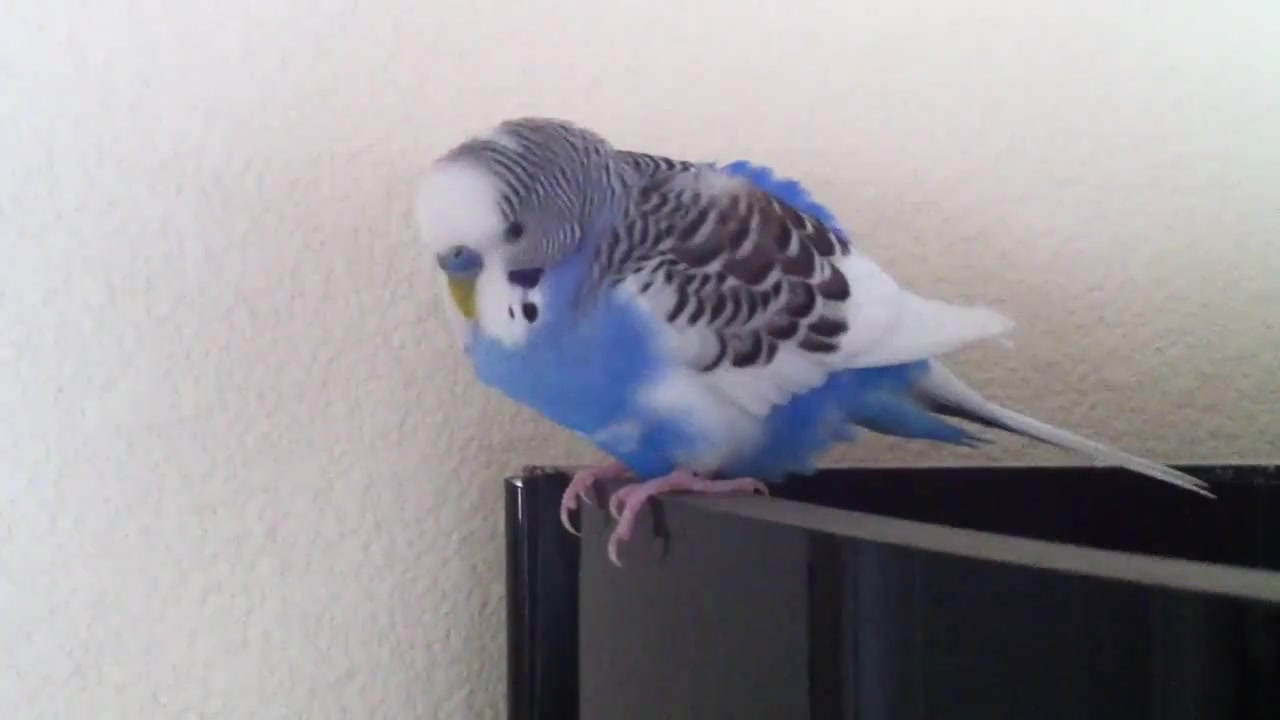bird: (415, 115, 1218, 571)
